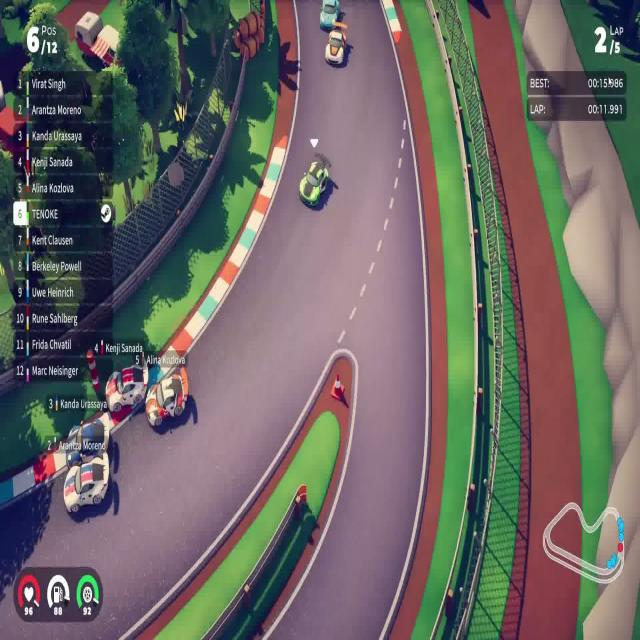car: (62, 450, 110, 514), (145, 362, 189, 428), (64, 411, 111, 468), (105, 359, 148, 414), (298, 158, 329, 208), (324, 28, 347, 66)
